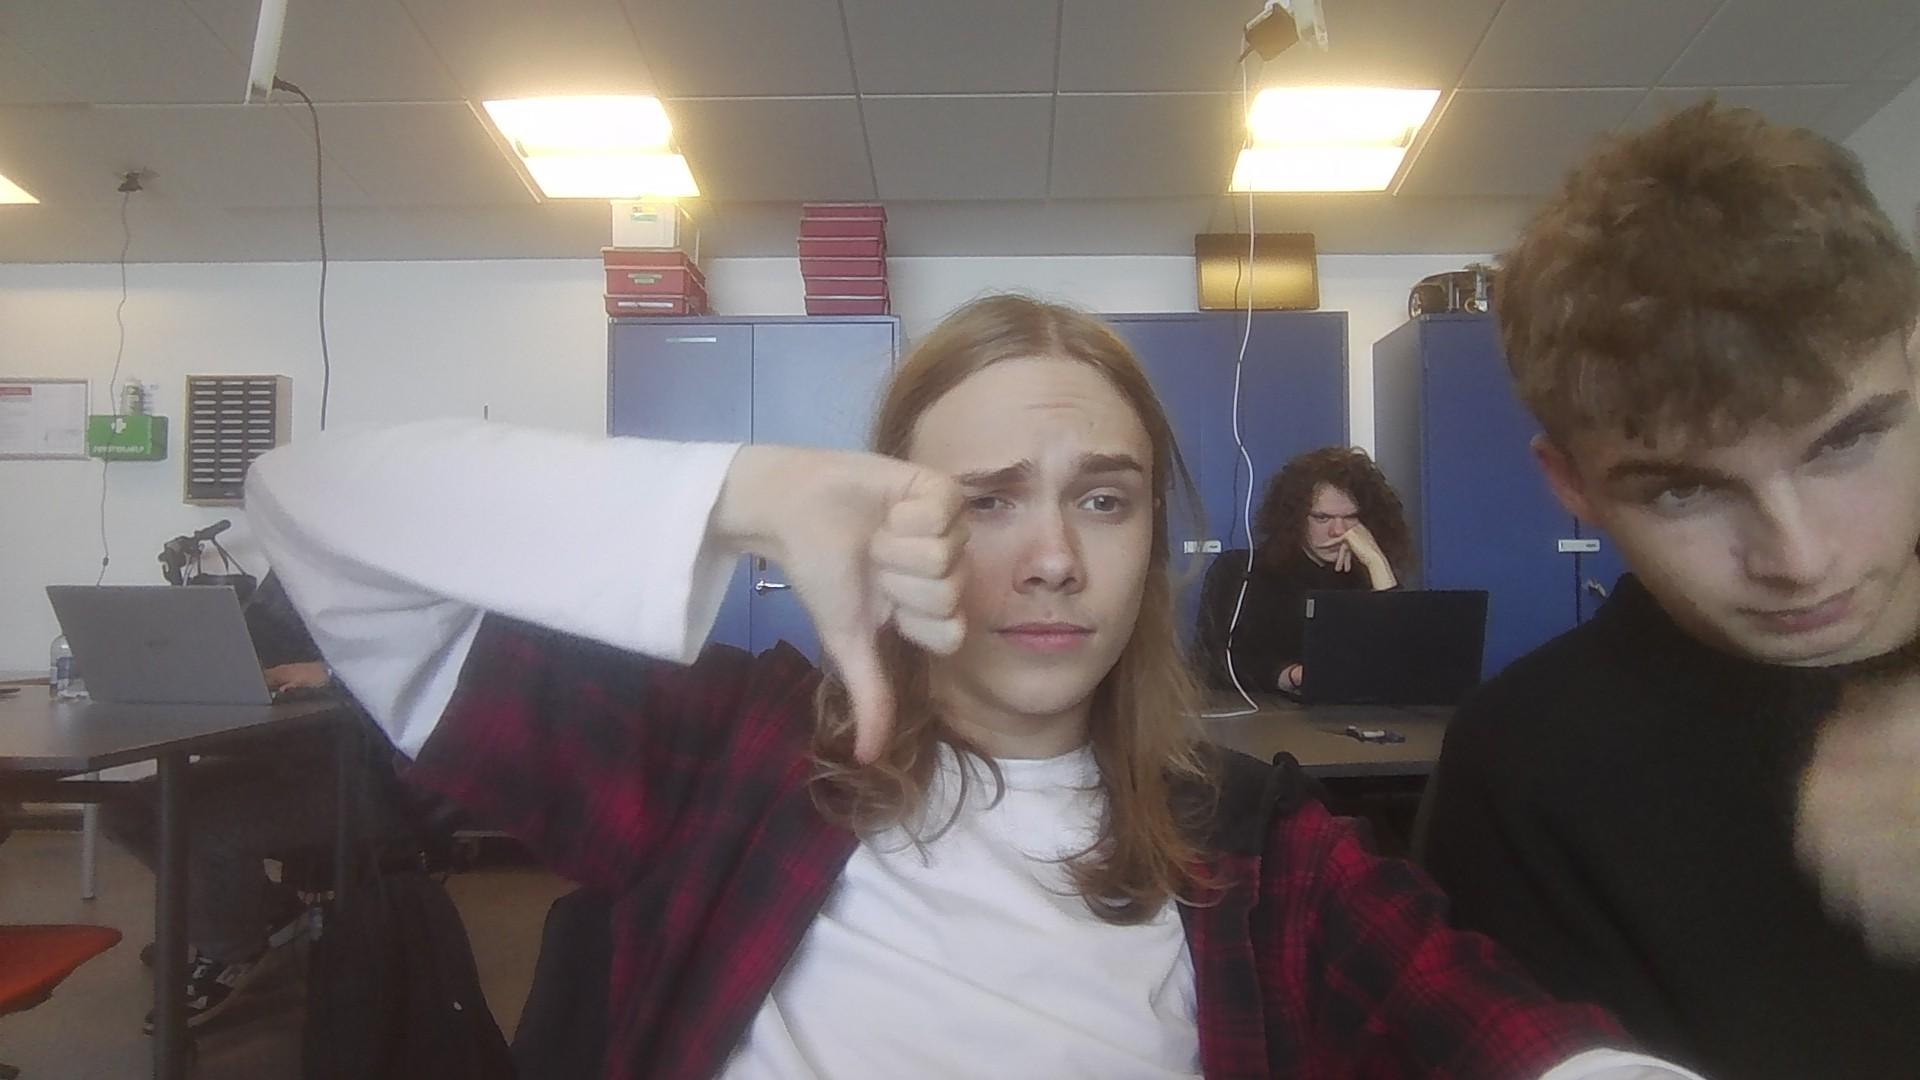thumbs down: (775, 434, 971, 767)
